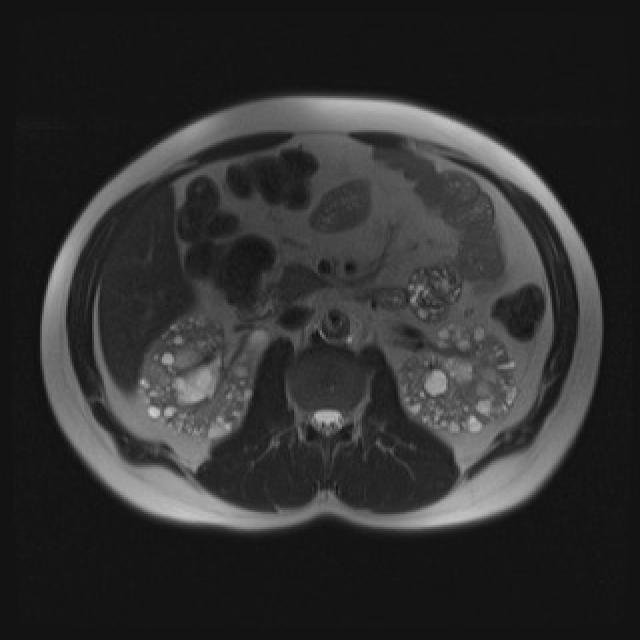sag: (136, 313, 271, 439)
sol: (396, 319, 522, 435)
